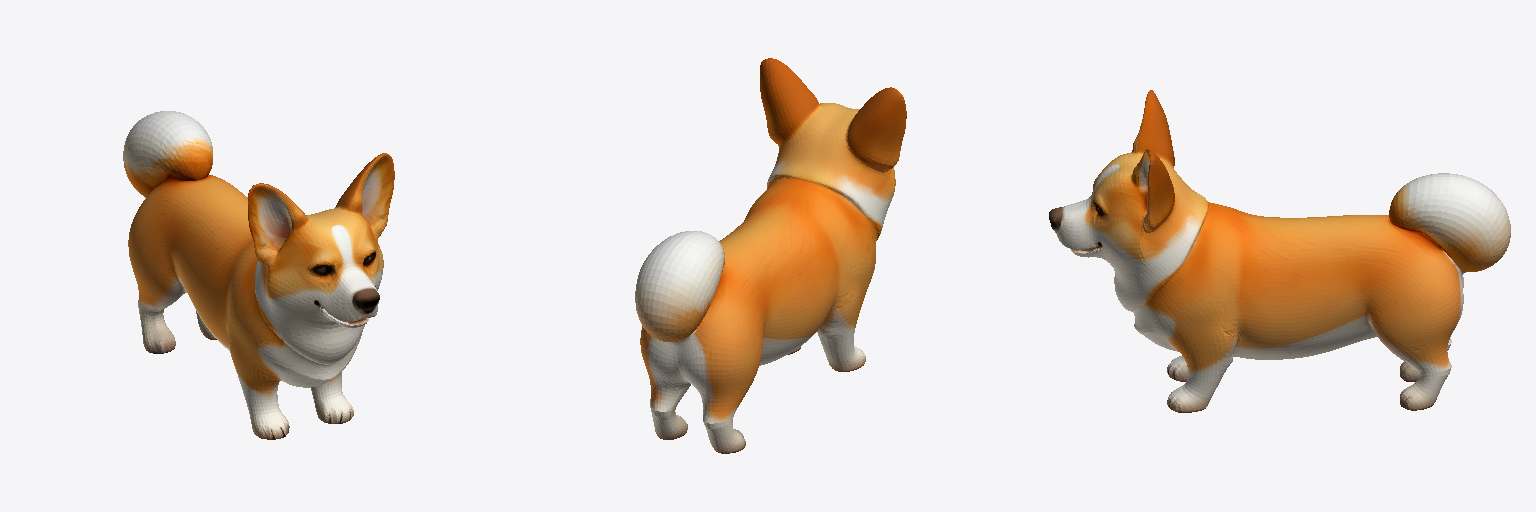
The picture shows the model from 3 angles: view 1: azimuth 30°, elevation 25°; view 2: azimuth 150°, elevation 25°; view 3: azimuth 270°, elevation 25°; orthographic projection.
Size of the model in its own units: 0.6935 by 1.22 by 1.9.
1 materials, 1 textured.